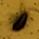cockroach: (12, 12, 28, 32)
